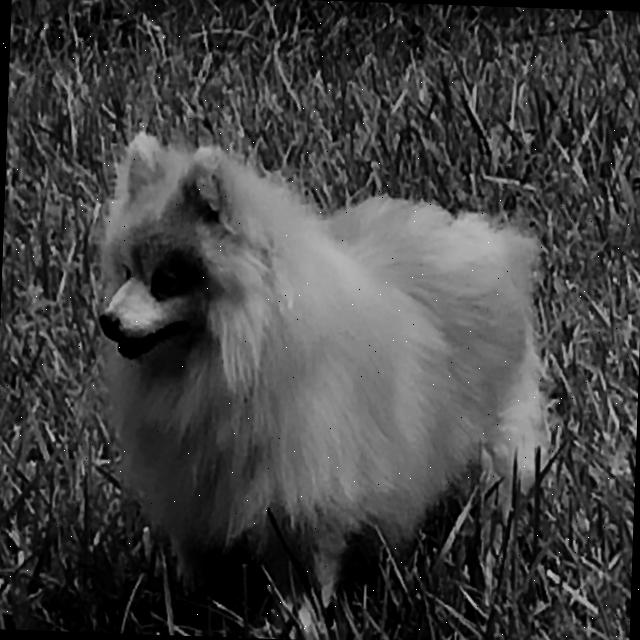pomeranian_dog: (82, 112, 288, 399)
